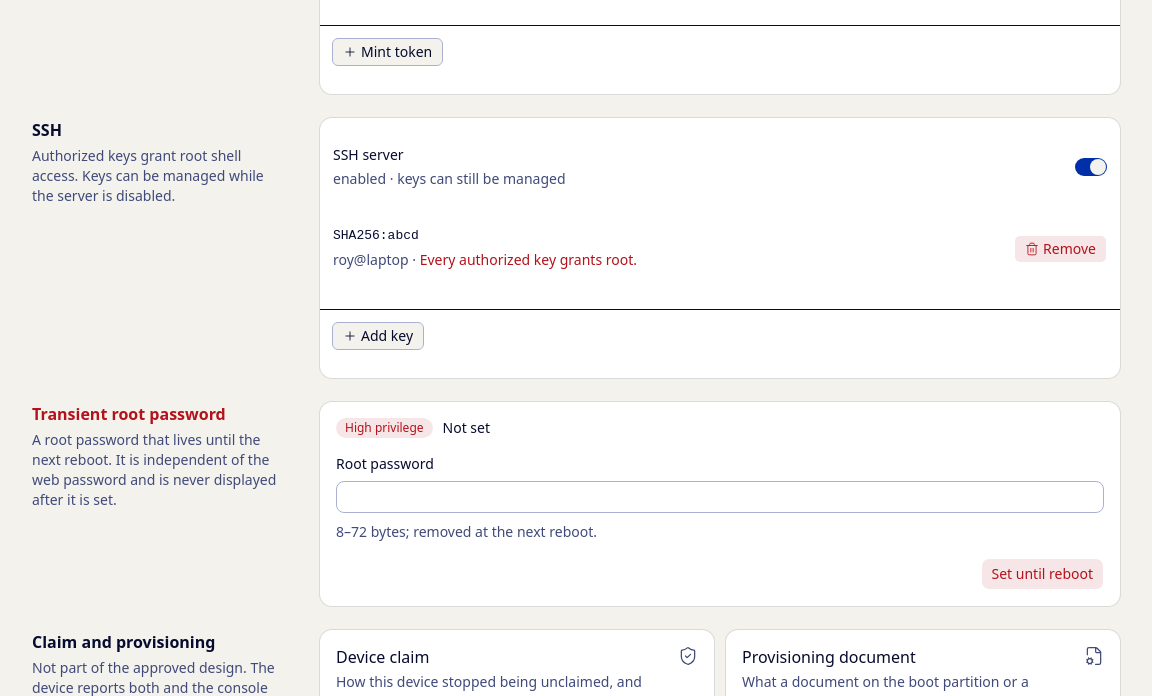
the access page forms › adds an authorized key through the shared form dialog
(page scrolled)
Step 1. Click the button "Add key" → (378, 336), box 332,322 -> 424,350
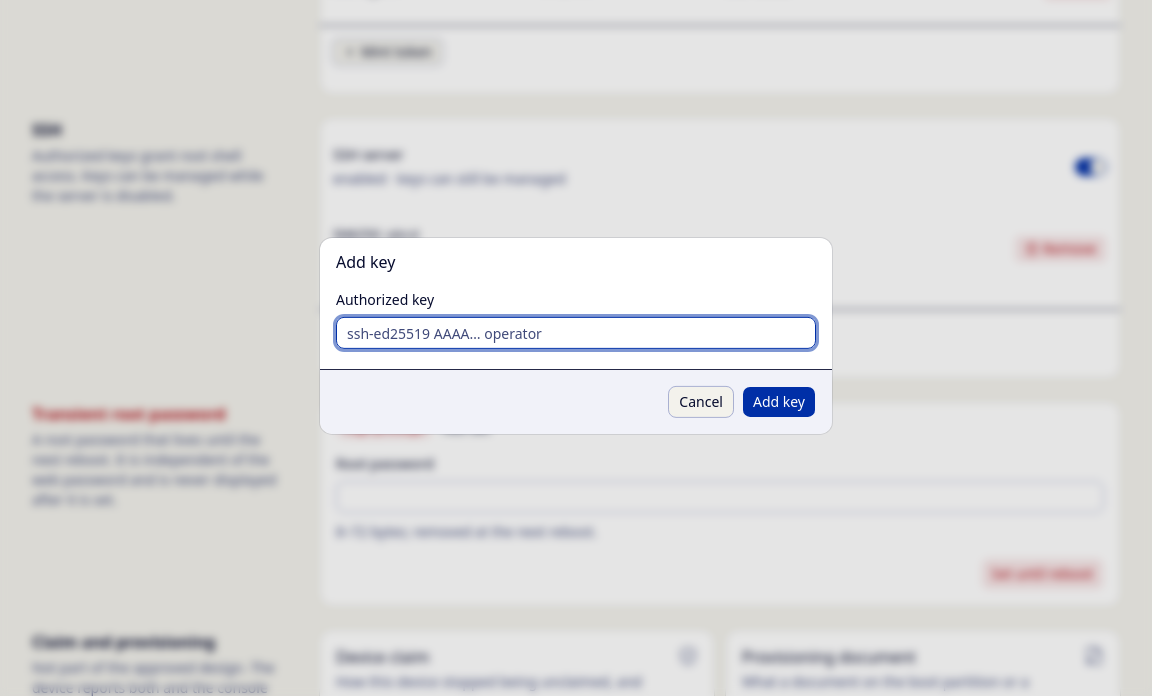
Step 2. Type "ssh-ed25519 AAAA operator" into the field labelled "Authorized key" → (576, 333), box 336,317 -> 816,349
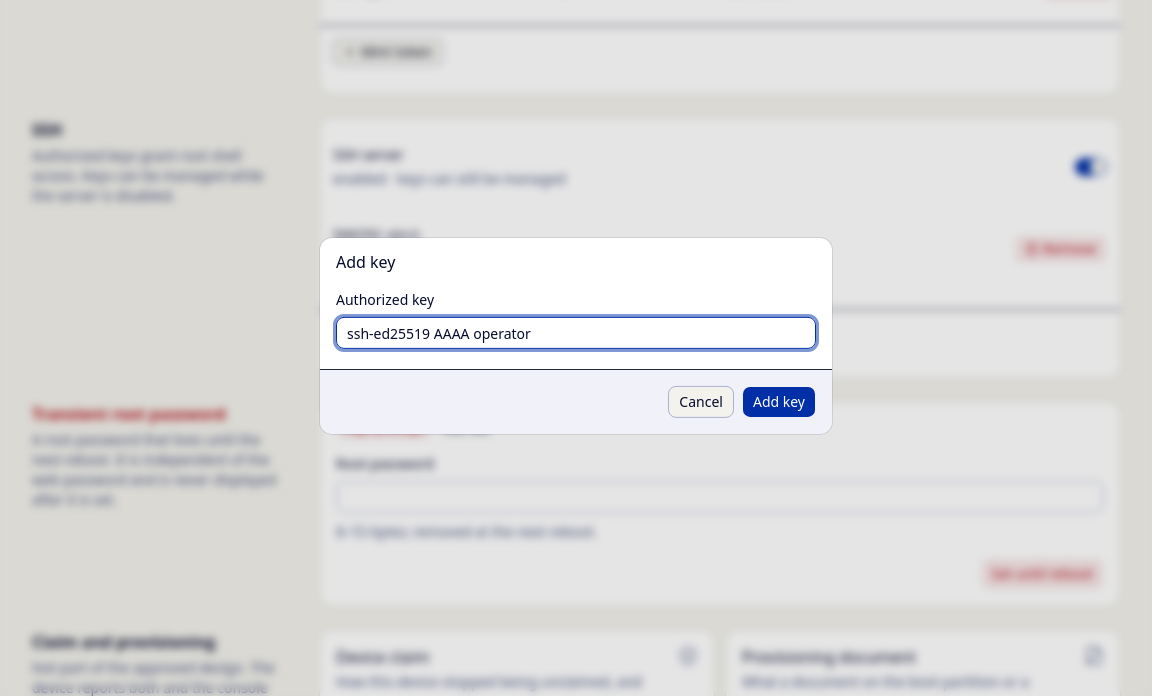
Step 3. Click the button "Add key" → (779, 402), box 742,386 -> 816,418
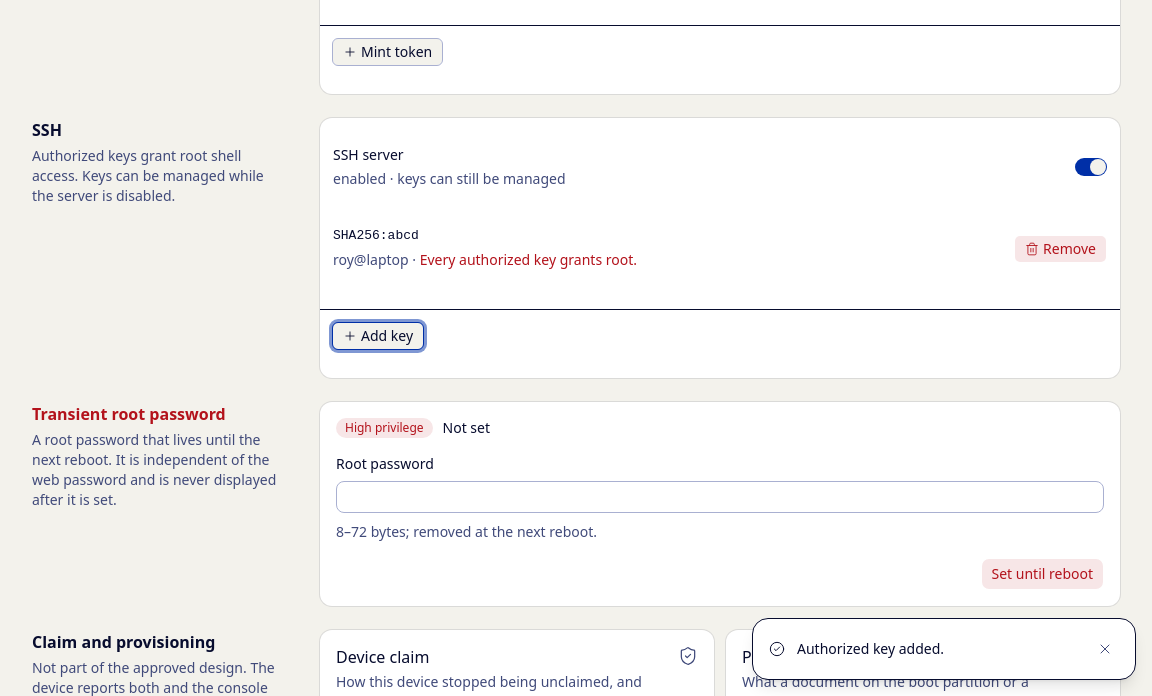
Check: the heading "Authorized key added." is shown, box 797,639 -> 944,658
